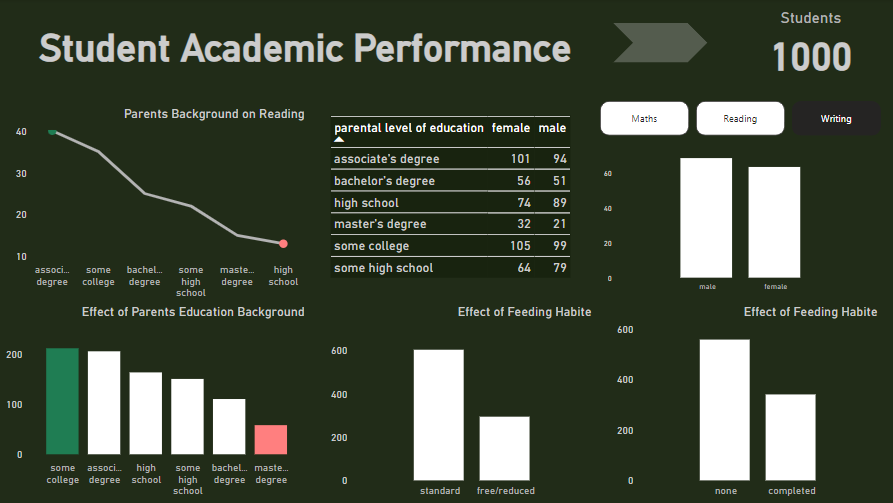

The page's visual inventory and layout, read from the dashboard file:
{"tool":"powerbi","page":{"name":"Page 1","canvas":[1280,720],"ordinal":0},"visuals":[{"type":"card","title":"Students","fields":{"Values":["my measures.No of Students"]},"box":[1048,14,218,96],"z":0},{"type":"card","title":"Students","fields":{"Values":["my measures.Title"]},"box":[30,14,820,96],"z":1000},{"type":"shape","box":[876,34,134,56],"z":2000},{"type":"clusteredColumnChart","title":"Effect of Parents Education Background","fields":{"Category":["StudentsPerformance.parental level of education"],"Y":["my measures.Passed Grade"]},"box":[10,432,434,280],"z":3000},{"type":"clusteredColumnChart","title":"Effect of Feeding Habite","fields":{"Y":["my measures.Passed Grade"],"Category":["StudentsPerformance.lunch"]},"box":[470,432,380,280],"z":4000},{"type":"clusteredColumnChart","title":"Effect of Feeding Habite","fields":{"Y":["my measures.Passed Grade"],"Category":["StudentsPerformance.test preparation course"]},"box":[876,432,380,280],"z":5000},{"type":"lineChart","title":"Parents Background on Reading","fields":{"Category":["StudentsPerformance.parental level of education"],"Y":["my measures.passed reading"]},"box":[10,152,434,280],"z":6000},{"type":"pivotTable","fields":{"Columns":["StudentsPerformance.gender"],"Rows":["StudentsPerformance.parental level of education"],"Values":["my measures.passed maths"]},"box":[470.6,160.2,362.8,260.8],"z":7000},{"type":"clusteredColumnChart","title":"Effect of Feeding Habite","fields":{"Category":["StudentsPerformance.gender"],"Y":["Avg(StudentsPerformance.math score)"]},"box":[857.5,208.3,379.8,212.6],"z":8000},{"type":"bookmarkNavigator","box":[857.9,145.3,398.2,49.6],"z":11000}]}

Visuals, with their boxes in screenshot pixels (x1, y1, x2, y2), scaled from the page's 1280x720 canvas onto the 893x503 screenshot:
"Students" card: box(731, 10, 883, 77)
"Students" card: box(21, 10, 593, 77)
shape: box(611, 24, 705, 63)
"Effect of Parents Education Background" clusteredColumnChart: box(7, 302, 310, 497)
"Effect of Feeding Habite" clusteredColumnChart: box(328, 302, 593, 497)
"Effect of Feeding Habite" clusteredColumnChart: box(611, 302, 876, 497)
"Parents Background on Reading" lineChart: box(7, 106, 310, 302)
pivotTable - StudentsPerformance.gender x StudentsPerformance.parental level of education: box(328, 112, 581, 294)
"Effect of Feeding Habite" clusteredColumnChart: box(598, 146, 863, 294)
bookmarkNavigator: box(599, 102, 876, 136)
